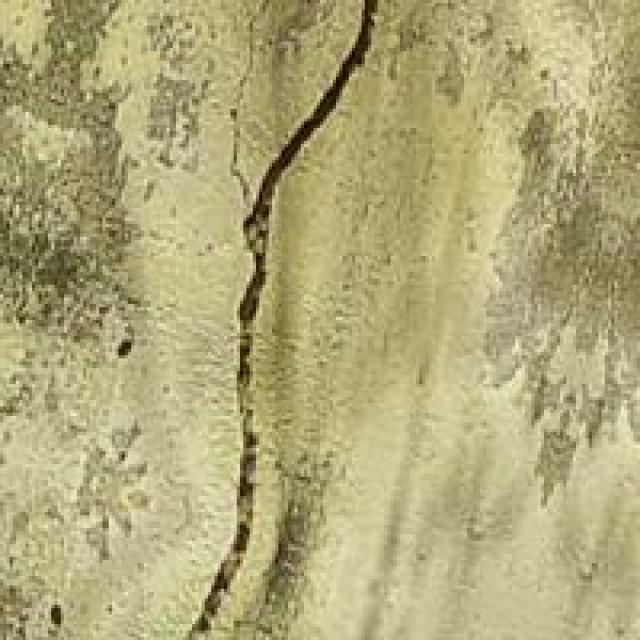crack: (172, 0, 388, 640)
